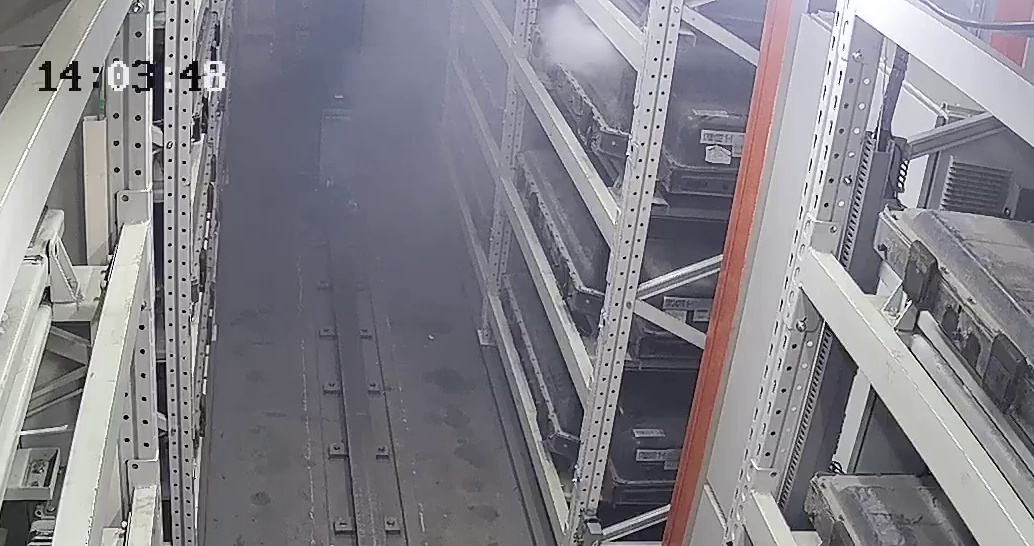smoke: (356, 4, 488, 219), (534, 2, 626, 83)
